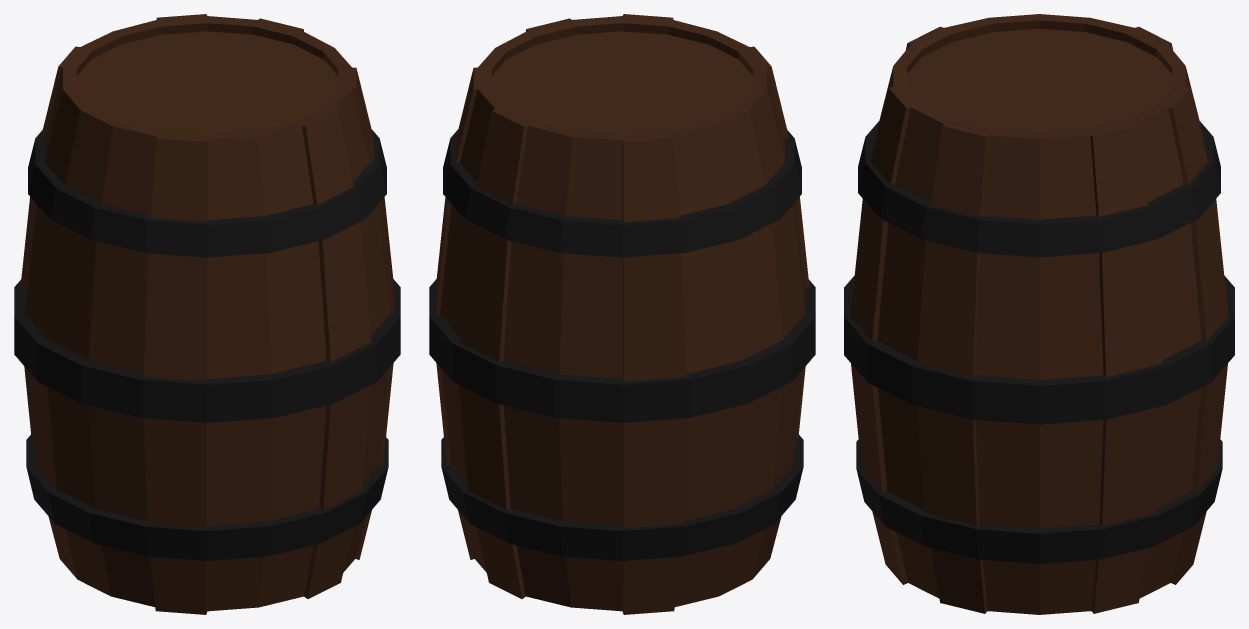
The model's file is SM_barrel.fbx.
3 views of the same model, side by side, from view 1: azimuth 30°, elevation 25°; view 2: azimuth 150°, elevation 25°; view 3: azimuth 270°, elevation 25° (orthographic).
Visible parts, largest first — view 1: Cylinder021; view 2: Cylinder021; view 3: Cylinder021.
Part boxes in pixels (x1,y1,x2,y2): Cylinder021: (14,14,400,614); Cylinder021: (429,14,815,614); Cylinder021: (844,14,1234,614).
Size of the model in its own units: 132 by 175 by 130.
